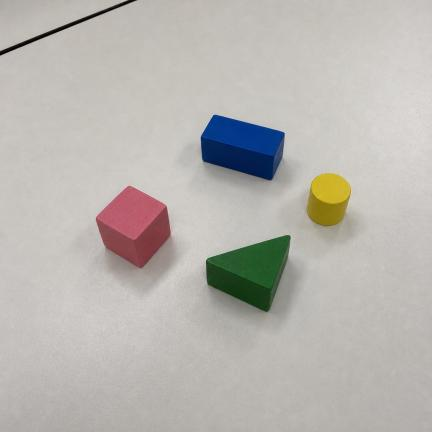BuildingBlocks: (206, 236, 290, 311), (97, 187, 170, 267), (201, 116, 284, 179), (307, 174, 350, 225)
